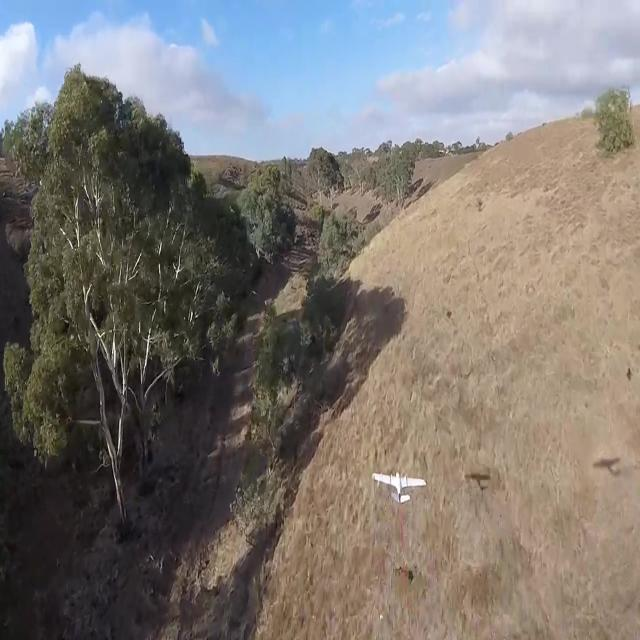iha: (371, 469, 427, 504)
